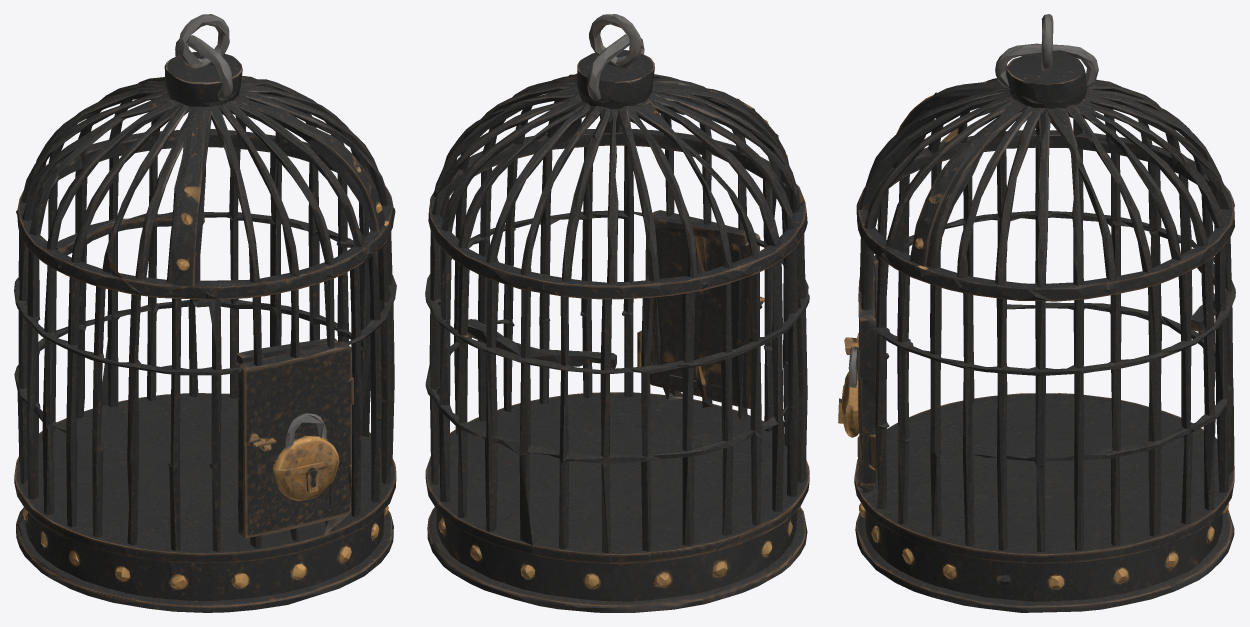
File: dragon_cage.glb
The picture shows the model from 3 angles, left to right: view 1: azimuth 30°, elevation 25°; view 2: azimuth 150°, elevation 25°; view 3: azimuth 270°, elevation 25°; orthographic projection.
Bounding box in the file's own units: 1.28 × 1.9 × 1.32.
Materials: 1 (1 with a texture image).
